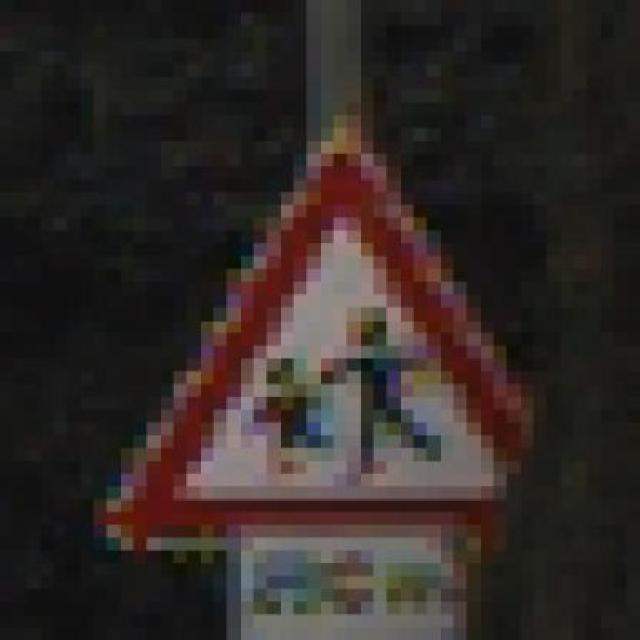Beware of children: (66, 128, 600, 550)
